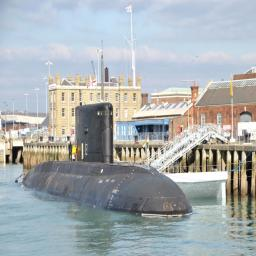submarine: (19, 103, 197, 213)
